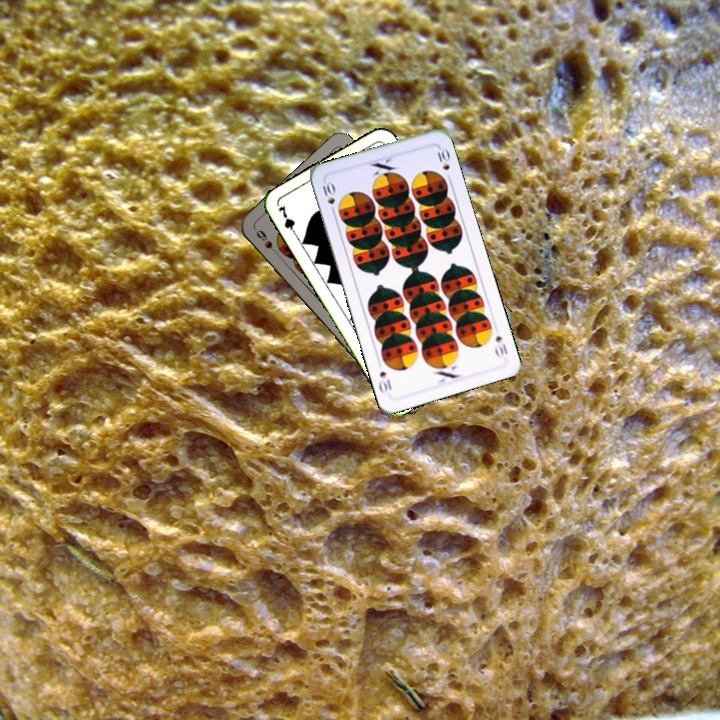G7: (274, 201, 300, 240)
S10: (318, 177, 338, 217), (491, 331, 510, 360)
S9: (252, 226, 283, 259)
